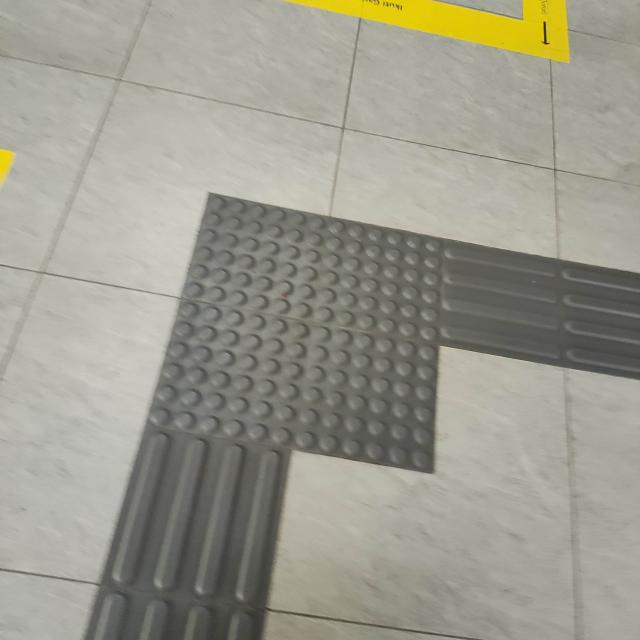kanan: (129, 146, 640, 528)
